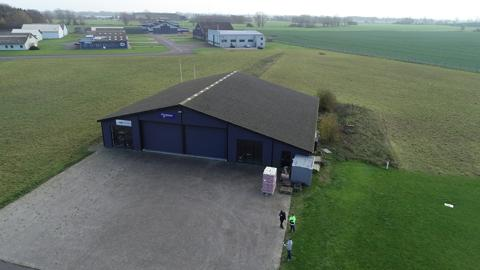RockwoolPallet: (262, 166, 278, 195)
